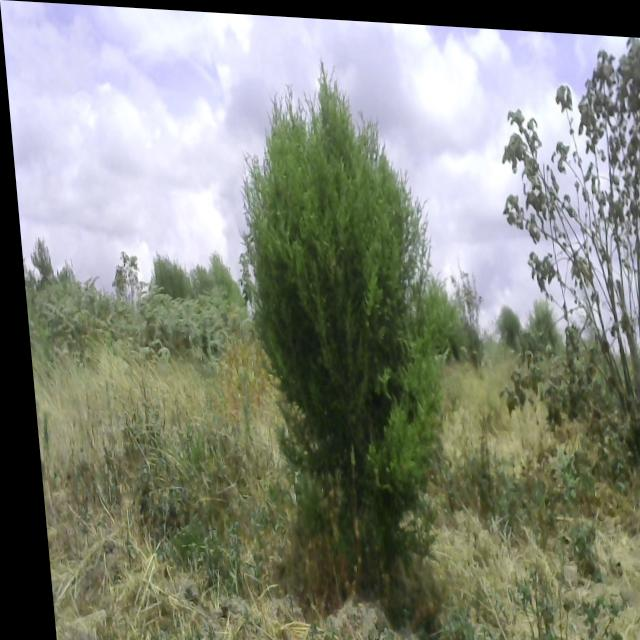cedrus: (216, 44, 460, 612)
other: (480, 22, 640, 496)
